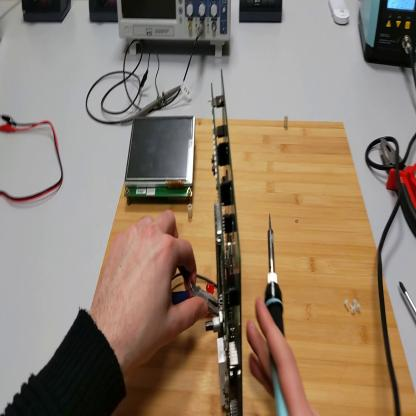hand: (94, 211, 205, 367), (247, 296, 314, 416)
low voltage board: (174, 68, 245, 416)
oscilloscope: (117, 1, 231, 60)
oscilloscope probe tip: (121, 85, 182, 125)
pliers: (381, 137, 416, 238), (173, 266, 220, 314)
screwdriver-: (400, 281, 416, 318)
socket: (23, 2, 72, 27), (91, 2, 116, 24)
welder probe tip: (266, 216, 289, 416)
welder station: (358, 1, 416, 72)
working area: (88, 126, 416, 416)
